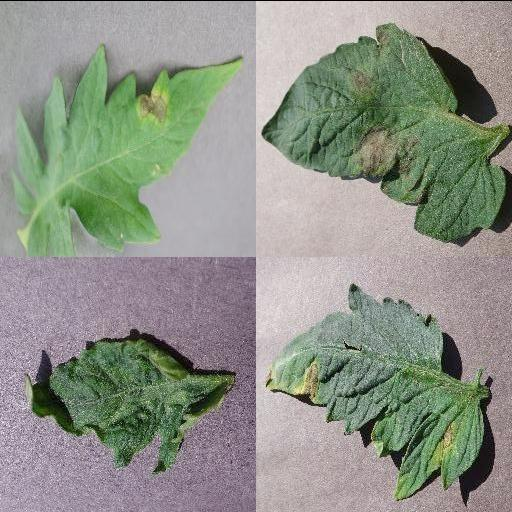Early Blight: (266, 282, 486, 500)
Late Blight: (259, 20, 505, 240), (11, 42, 247, 256)
Mosaic Virus: (24, 337, 228, 473)
